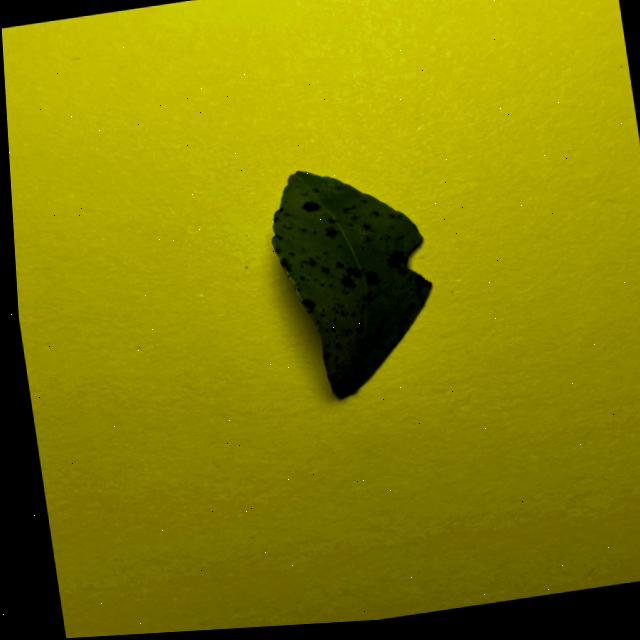sooty_mold: (271, 170, 430, 396)
